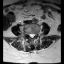CCS_normal: (31, 31, 32, 40)
LFS_normal: (34, 30, 37, 38)
LLS_normal: (32, 31, 34, 38)
RFS_stenosis: (27, 30, 29, 37)
RLS_normal: (29, 31, 31, 38)
